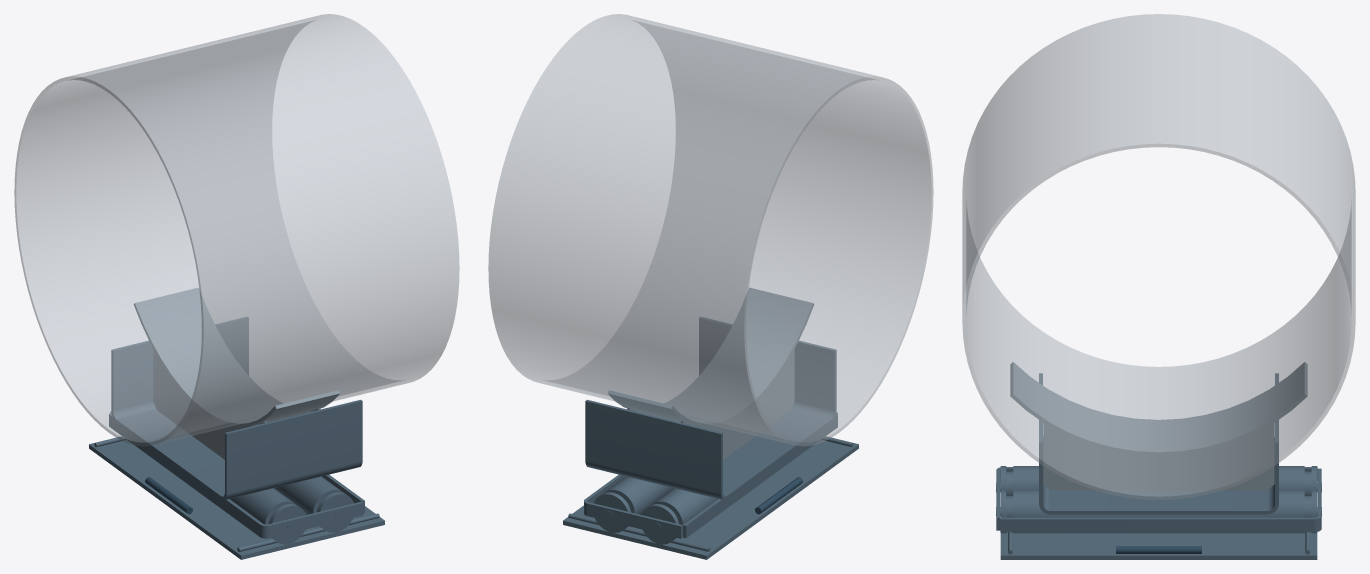
Rendered from TS-630.00.000-02-opora-dn820-hod200.glb.
3 views of the same model, side by side, from view 1: azimuth 30°, elevation 25°; view 2: azimuth 150°, elevation 25°; view 3: azimuth 270°, elevation 25° (orthographic). The views are drawn at different scales.
Visible parts, largest first — view 1: truba, o624_skoba_9, o624_podushka_13, plita_osnovanie_0, obojma_ugolnik_7, o624_rebro3_10, obojma_katok_5, obojma_katok_6; view 2: truba, o624_skoba_9, o624_podushka_13, plita_osnovanie_0, o624_rebro3_10, obojma_katok_5, obojma_katok_6, obojma_ugolnik_7, obojma_ugolnik_8; view 3: truba, o624_podushka_13, o624_rebro3_11, plita_osnovanie_0, o624_skoba_9, obojma_ugolnik_8, obojma_katok_5, obojma_katok_6, plita_upor_2.
Boxes of the visible parts, x1,y1,x2,y2 form: truba: [14, 14, 459, 446]; o624_skoba_9: [111, 317, 362, 500]; o624_podushka_13: [133, 287, 340, 427]; plita_osnovanie_0: [89, 440, 384, 559]; obojma_ugolnik_7: [109, 413, 363, 538]; o624_rebro3_10: [153, 349, 266, 459]; obojma_katok_5: [274, 476, 353, 532]; obojma_katok_6: [230, 488, 305, 544]; truba: [488, 14, 933, 446]; o624_skoba_9: [585, 317, 836, 500]; o624_podushka_13: [607, 287, 814, 427]; plita_osnovanie_0: [563, 440, 858, 559]; o624_rebro3_10: [681, 349, 794, 459]; obojma_katok_5: [594, 476, 673, 532]; obojma_katok_6: [642, 488, 717, 544]; obojma_ugolnik_7: [683, 412, 837, 538]; obojma_ugolnik_8: [584, 474, 682, 538]; truba: [962, 14, 1355, 499]; o624_podushka_13: [1010, 362, 1307, 455]; o624_rebro3_11: [1043, 423, 1274, 490]; plita_osnovanie_0: [1000, 532, 1317, 559]; o624_skoba_9: [1039, 373, 1278, 514]; obojma_ugolnik_8: [1000, 468, 1321, 532]; obojma_katok_5: [996, 490, 1321, 533]; obojma_katok_6: [996, 466, 1321, 495]; plita_upor_2: [1116, 546, 1201, 553].
Size of the model in its own units: 640 by 1023 by 820.
